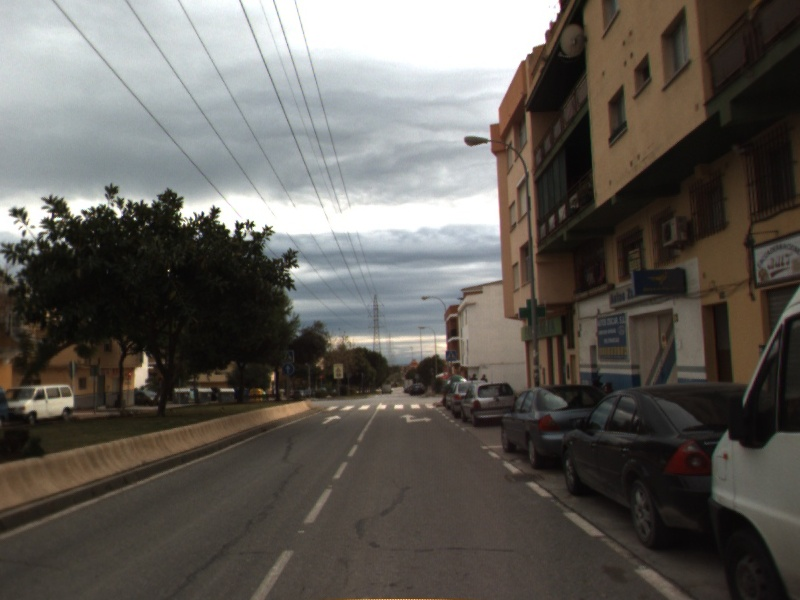STRAIGHT: (319, 413, 344, 426)
STRAIGHT_RIGHT: (398, 412, 434, 425)
